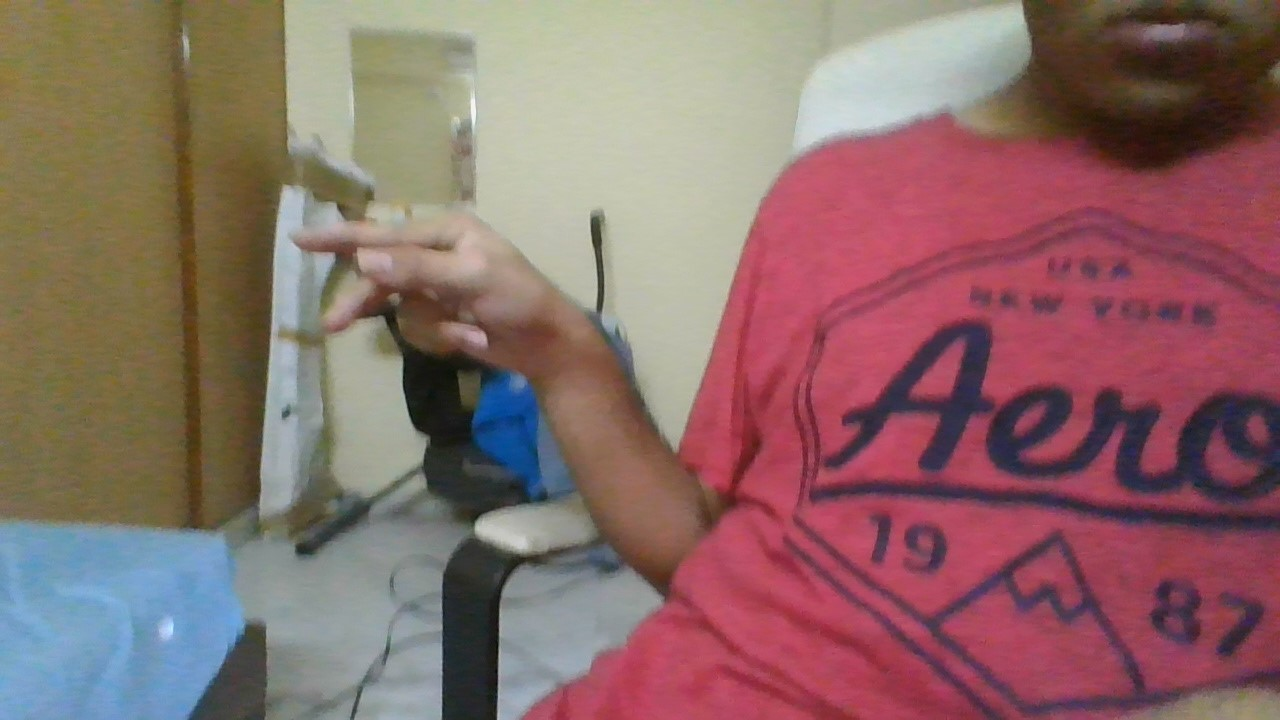p: (285, 208, 572, 376)
